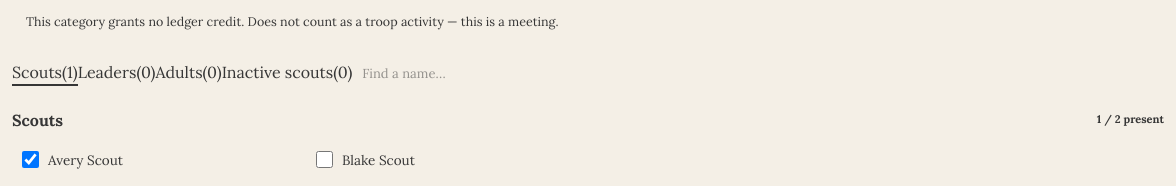
Roll Call sheet — one tab per group › Search_FiltersTheOpenTab_AndSaysWhereElseTheNameIs
The width and height of the screenshot is (1176, 186).
Type "Casey" into the search field named "Find a person". click: (512, 74)
box: [352, 56, 672, 92]
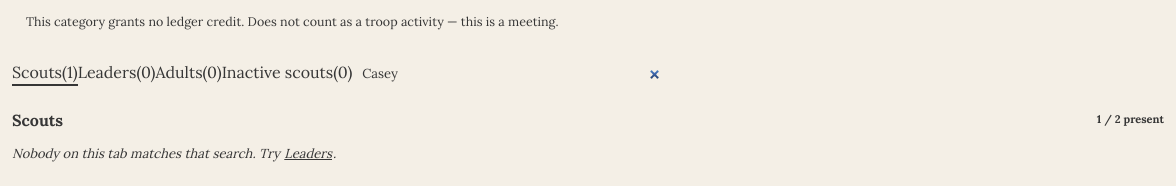
Check: the text "Nobody on this tab matches that search. Try Leaders ." is shown, box [12, 142, 336, 165]
Click the button "Leaders". click: (308, 153)
box: [283, 142, 333, 165]
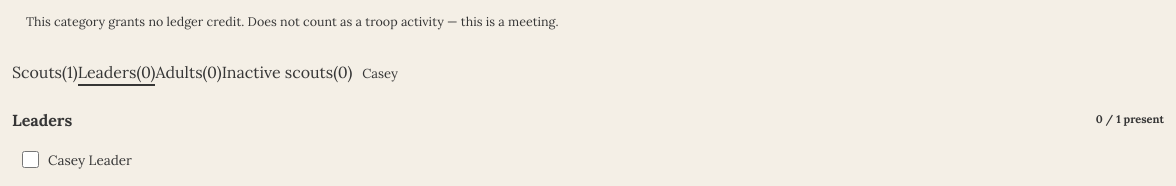
Check: the checkbox labelled "Casey Leader" is shown, box [22, 151, 39, 168]
